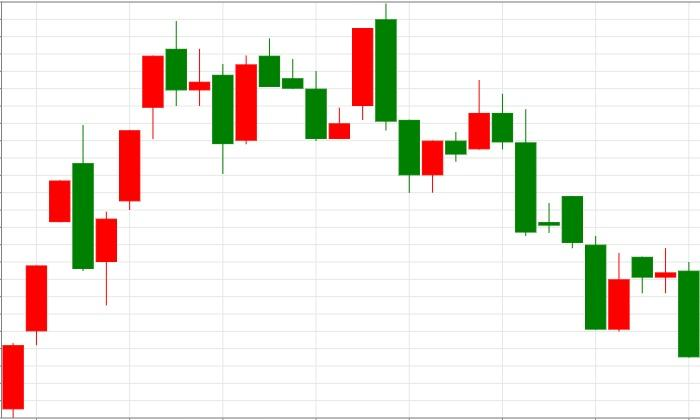bearish_engulfing_fall: (2, 125, 94, 419)
